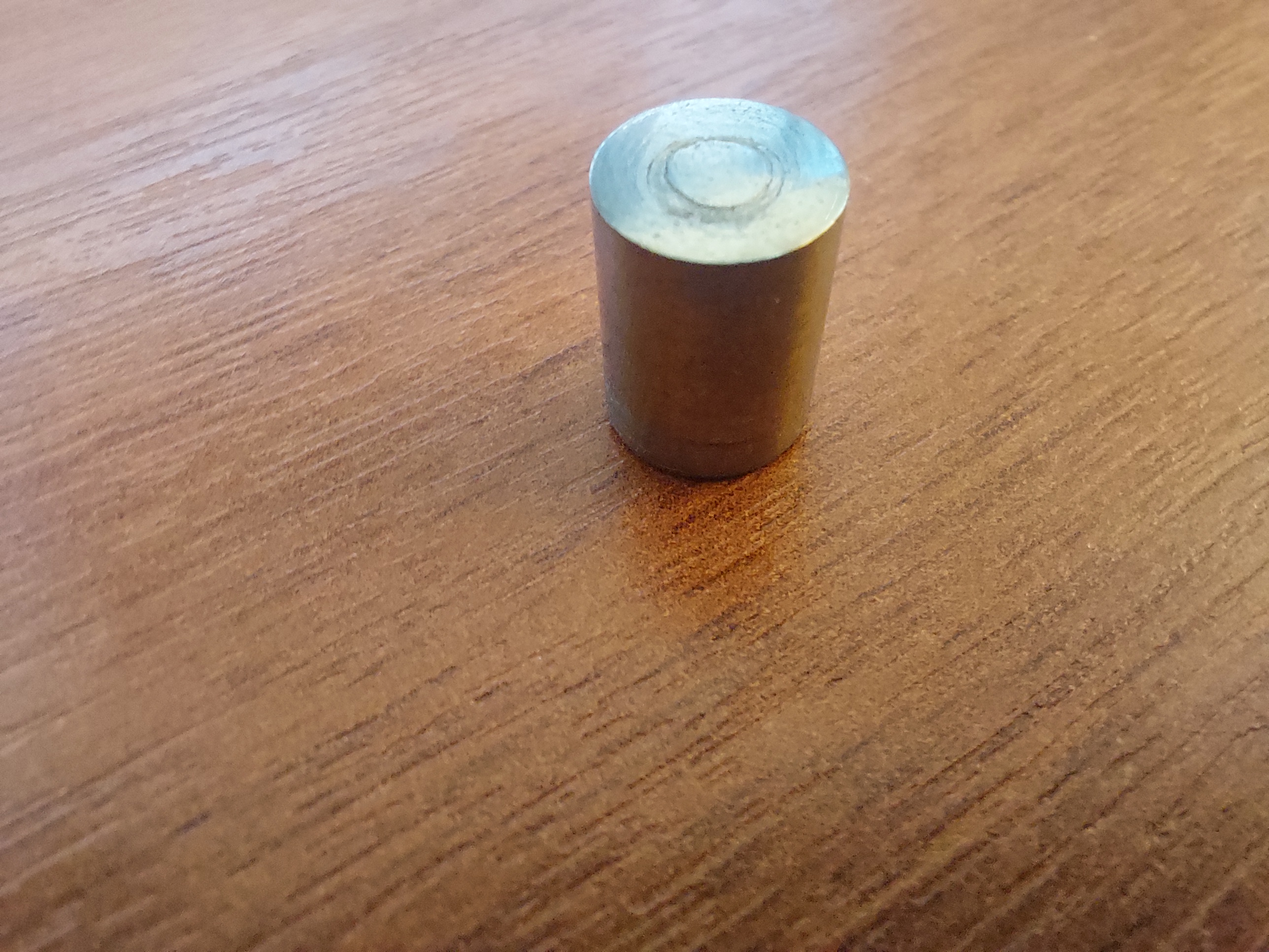tablet: (564, 74, 897, 525)
